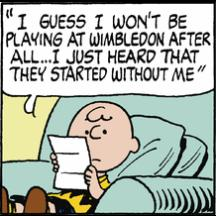charlie: (0, 100, 140, 214)
